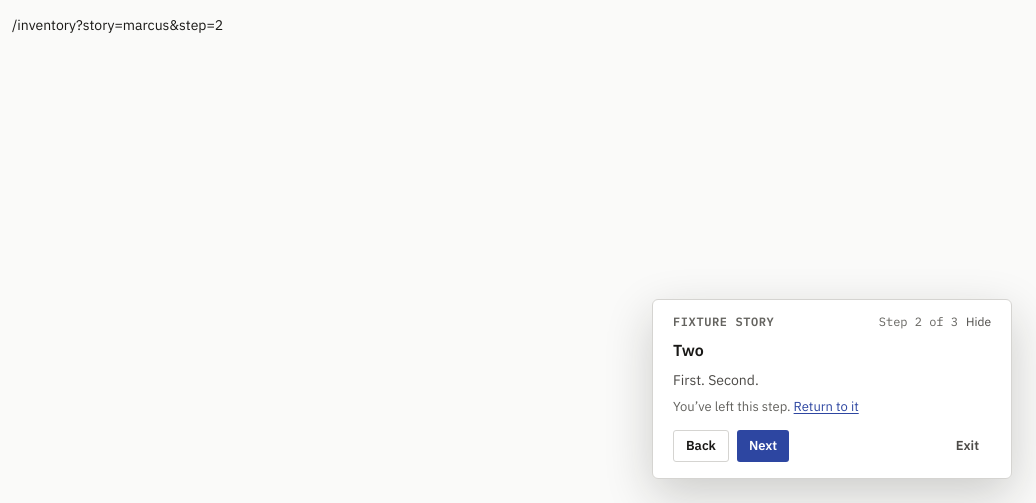
Scenario: off the step’s screen it offers the way back
Check: the text "You’ve left this step. Return to it" is shown, box [673, 398, 859, 416]
Click the button "Return to it": (826, 407) [794, 398, 859, 416]
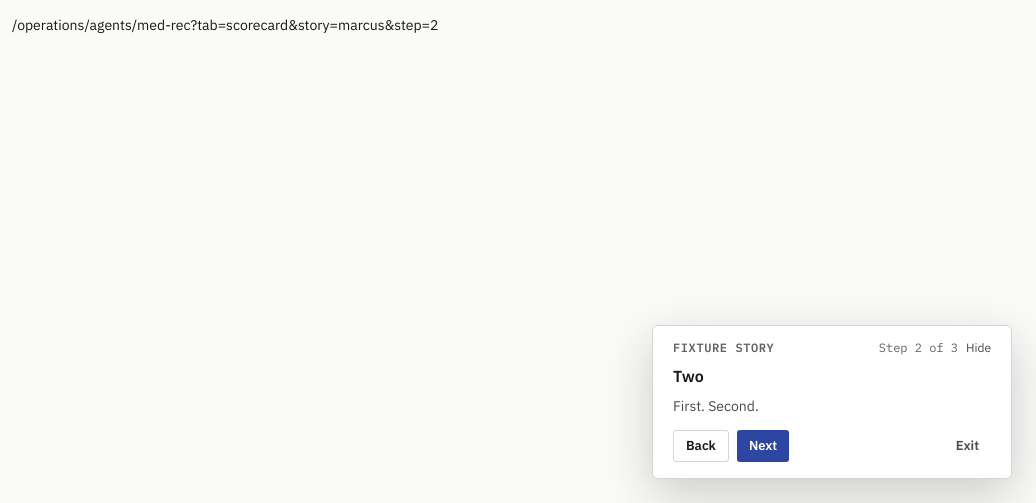
Check: the text named "location" reads "/operations/agents/med-rec?tab=scorecard&story=marcus&step=2", box [12, 16, 438, 34]
